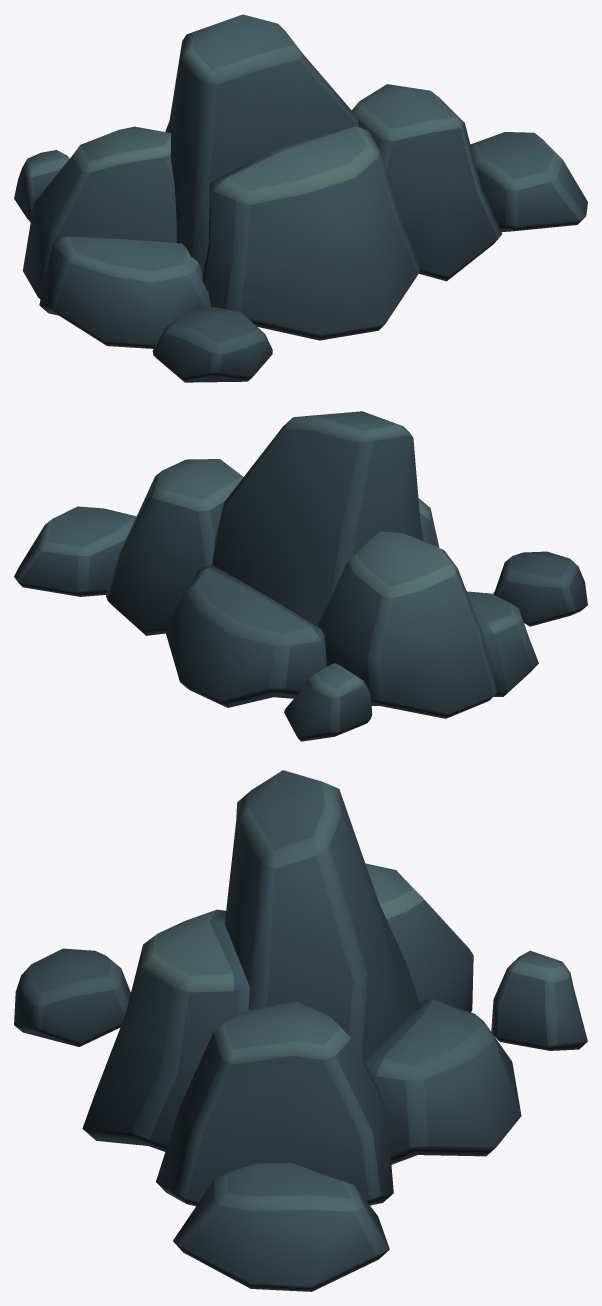
File: rock_arrangement_small.fbx
3 views of the same model, one above another, from view 1: azimuth 30°, elevation 25°; view 2: azimuth 150°, elevation 25°; view 3: azimuth 270°, elevation 25° (orthographic). The views are drawn at different scales.
Visible parts, largest first — view 1: rock_arrangement_small; view 2: rock_arrangement_small; view 3: rock_arrangement_small.
Boxes of the visible parts, bbox=[...] form: rock_arrangement_small: bbox=[14, 14, 587, 382]; rock_arrangement_small: bbox=[14, 411, 587, 741]; rock_arrangement_small: bbox=[14, 770, 587, 1291].
Size of the model in its own units: 335 by 166 by 259.
